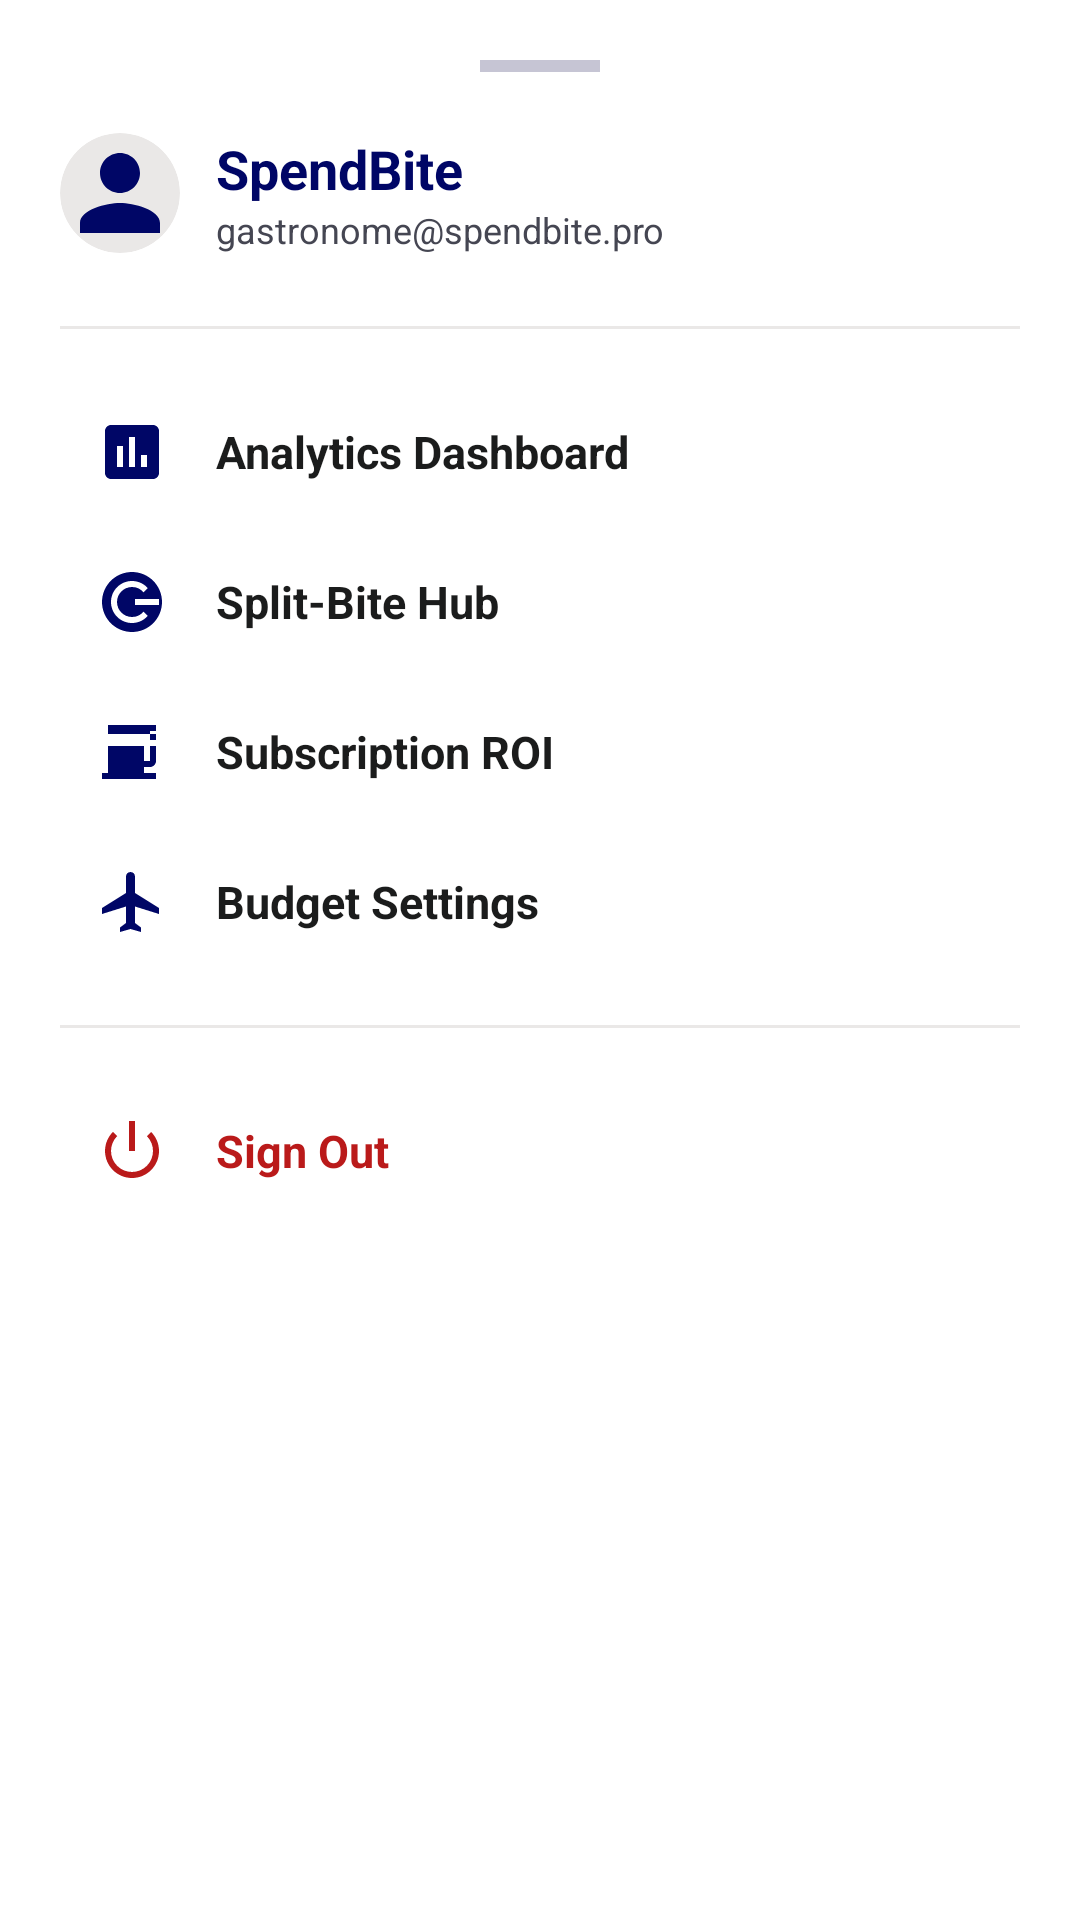

Screen size 1080×1920. Icon name, then its center in pixels as [x,y]:
coffee: [129,752]
lock power off: [132,1149]
plane: [130,902]
profile: [120,193]
